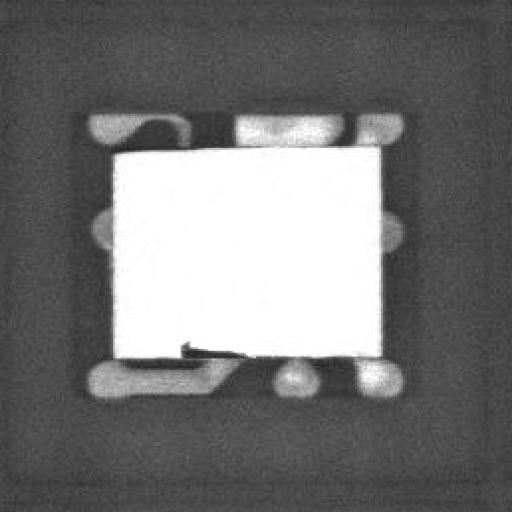DIE_BROKEN: (175, 336, 250, 360)
